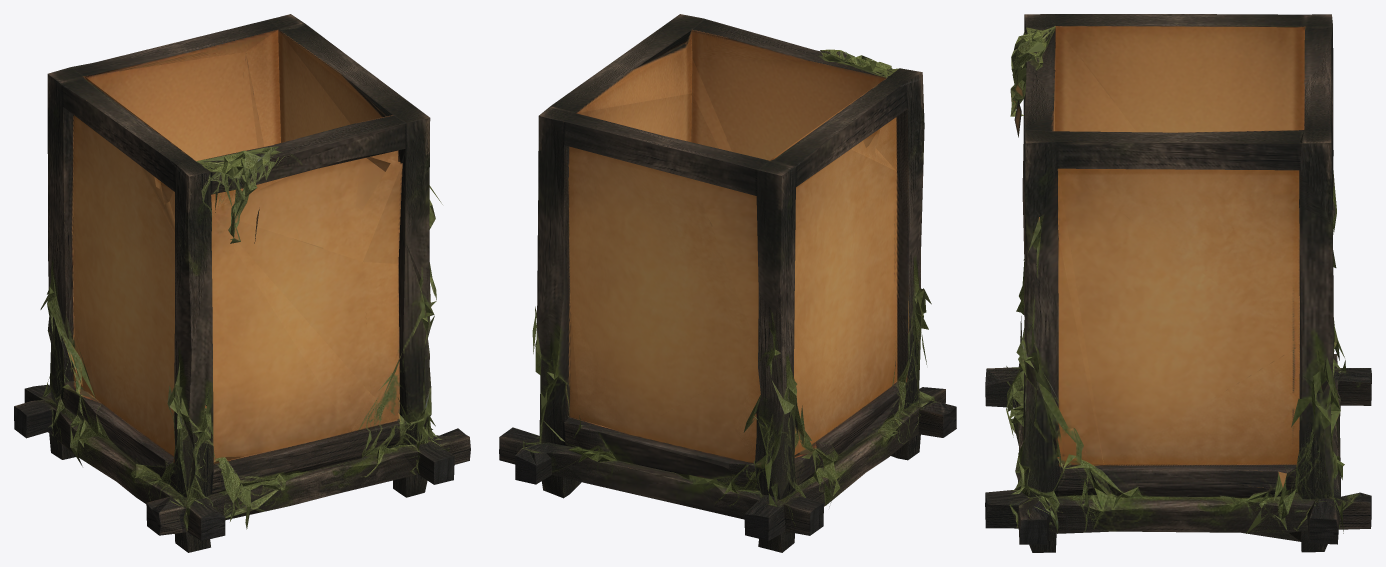
Rendered from floatlantern.glb.
3 renders of one model, left to right at view 1: azimuth 30°, elevation 25°; view 2: azimuth 150°, elevation 25°; view 3: azimuth 270°, elevation 25°, orthographic. The views are drawn at different scales.
Visible parts, largest first — view 1: Mesh_0; view 2: Mesh_0; view 3: Mesh_0.
Boxes of the visible parts, box(x1,y1,x2,y2) form: Mesh_0: box(14, 14, 470, 552); Mesh_0: box(499, 14, 956, 552); Mesh_0: box(985, 14, 1371, 552).
Bounding box in the file's own units: 1.61 × 1.9 × 1.59.
1 material, 1 textured.
